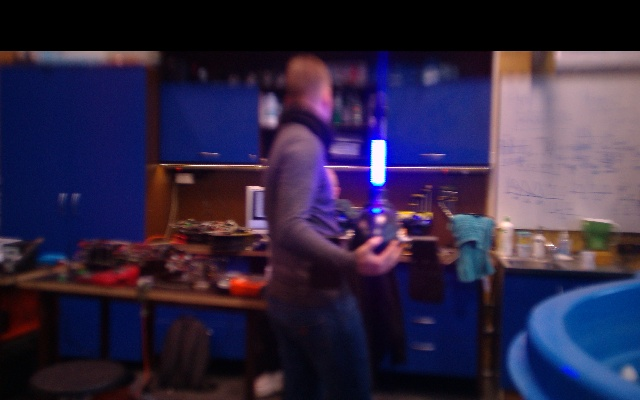blue: (370, 138, 386, 186)
